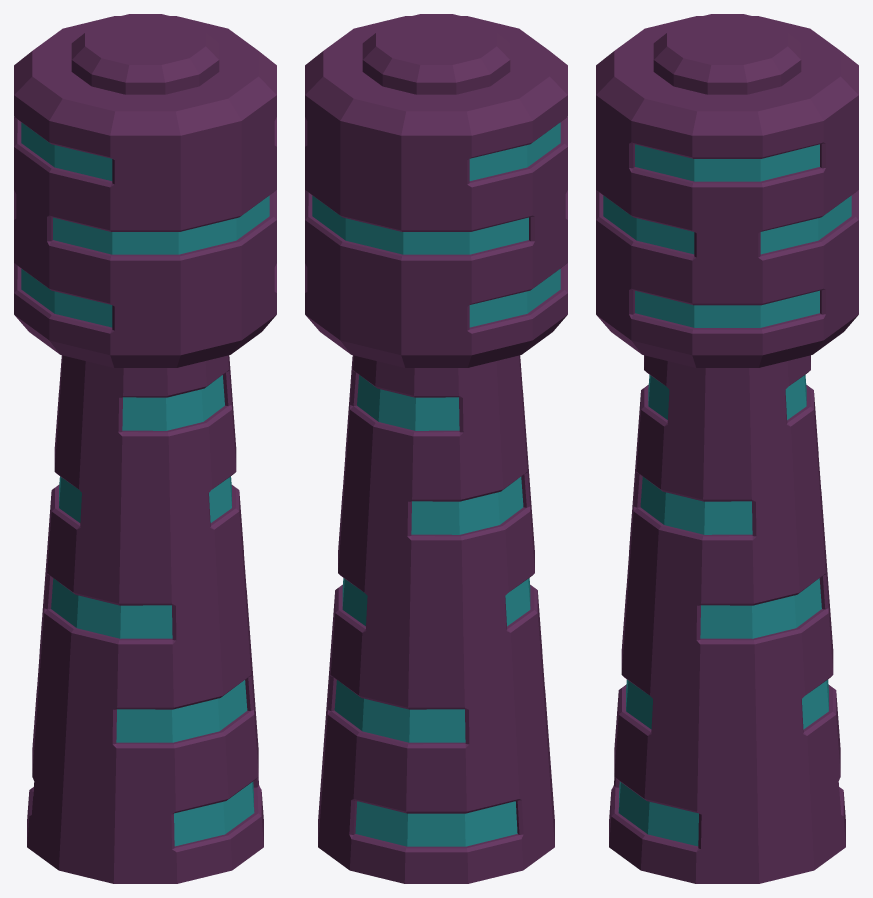
File: BuildingA.fbx
3 views of the same model, side by side, from view 1: azimuth 30°, elevation 25°; view 2: azimuth 150°, elevation 25°; view 3: azimuth 270°, elevation 25° (orthographic).
Visible parts, largest first — view 1: BuildingA; view 2: BuildingA; view 3: BuildingA.
Boxes of the visible parts, box(x1,y1,x2,y2) form: BuildingA: box(14, 14, 276, 883); BuildingA: box(305, 14, 567, 883); BuildingA: box(596, 14, 858, 883).
Size of the model in its own units: 340 by 1135 by 340.
